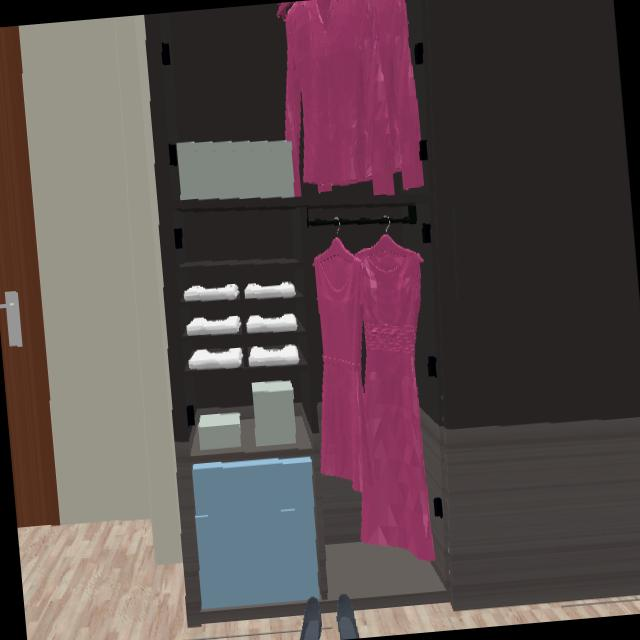wardrobe: (146, 0, 640, 626)
